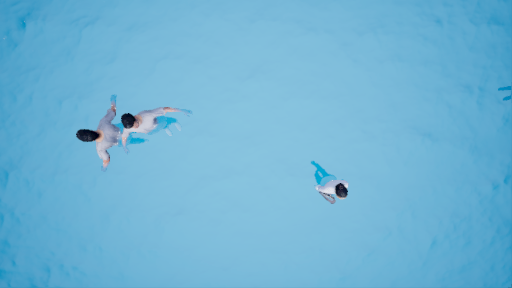person: (71, 95, 135, 164), (117, 97, 198, 146), (306, 151, 359, 206)
